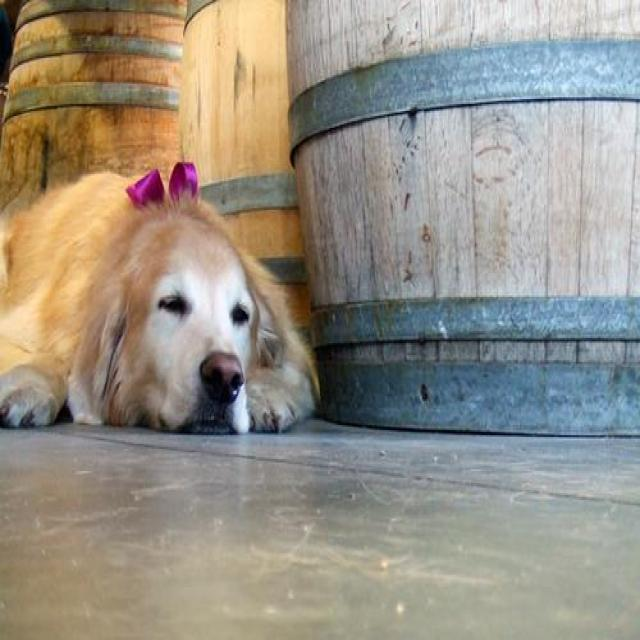relax: (4, 97, 316, 490)
